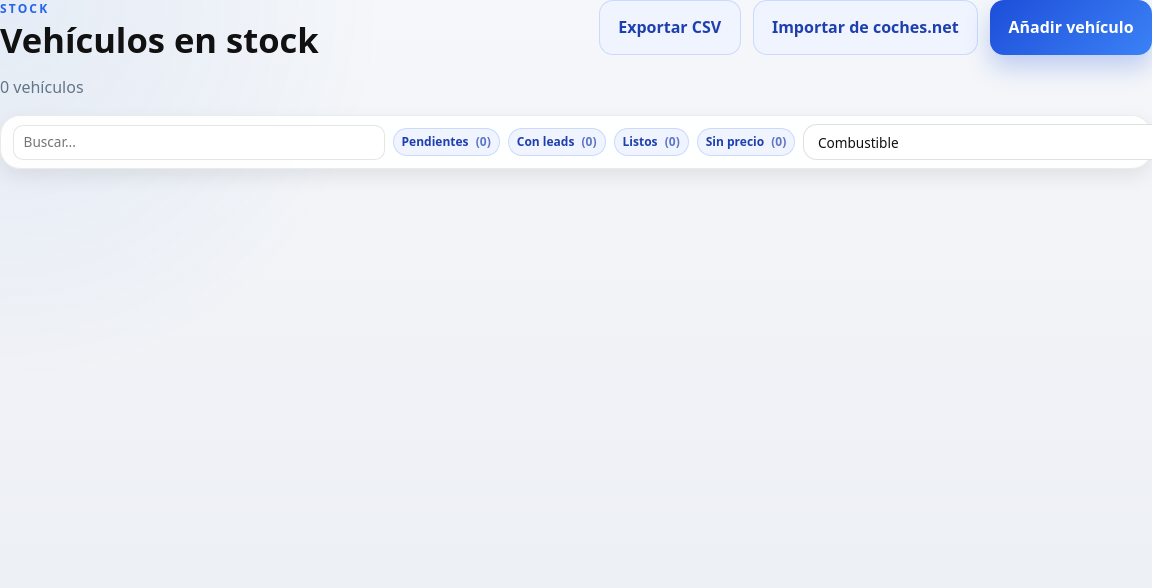
Test case: StockList — add vehicle form › shows name validation error on blur when empty
Click the button "Añadir vehículo" at (1071, 27), box left=990, top=0, right=1151, bottom=55
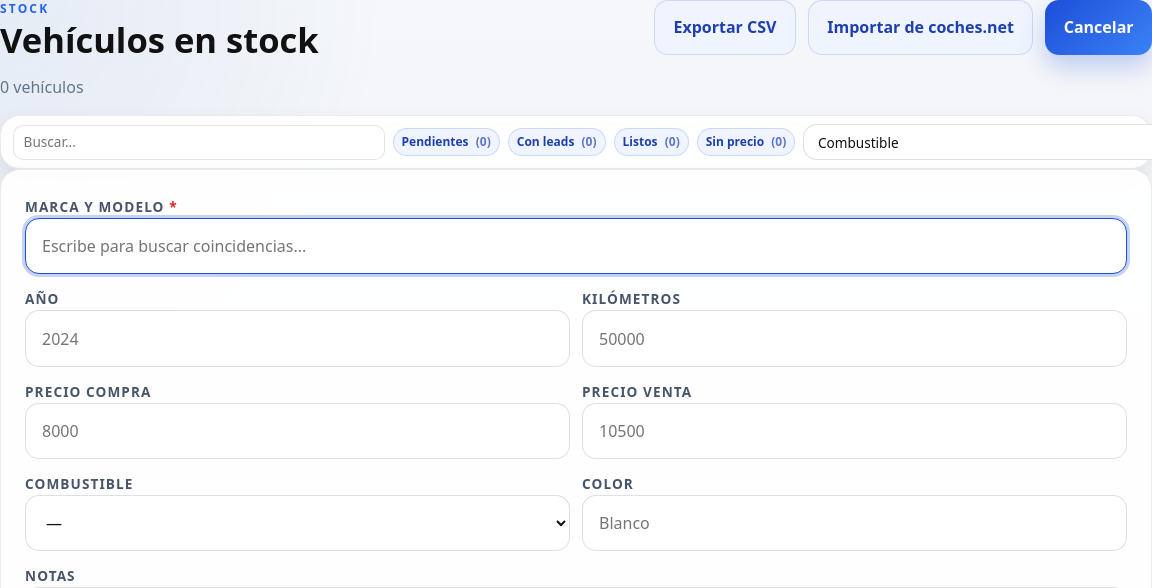
Leave the field with placeholder "Escribe para buscar coincidencias...", box left=25, top=218, right=1127, bottom=274
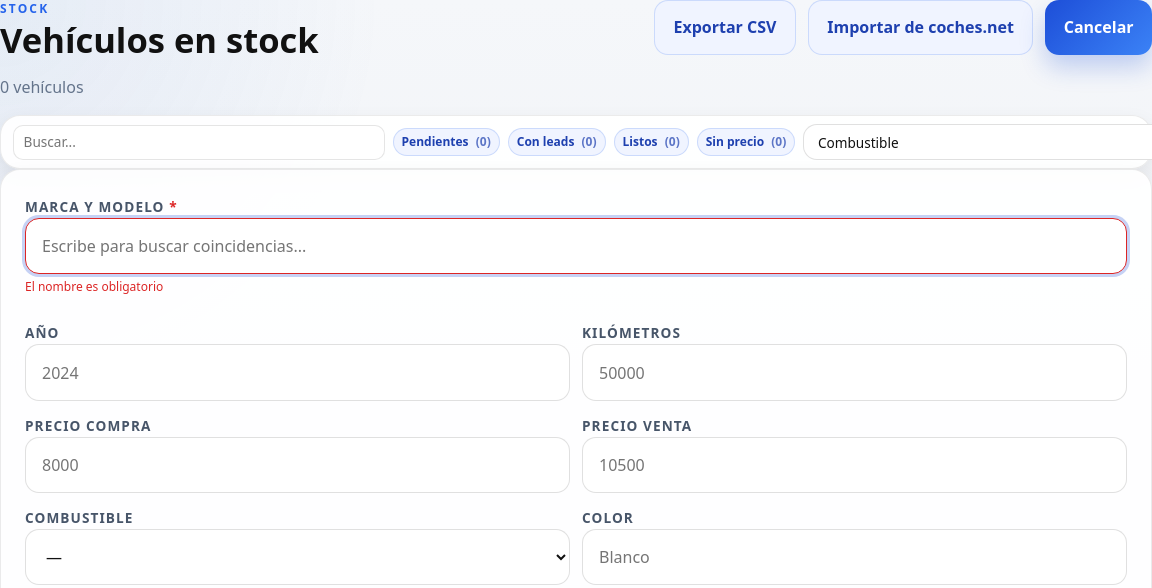
Expected: the text "El nombre es obligatorio" is shown, left=25, top=278, right=163, bottom=295
